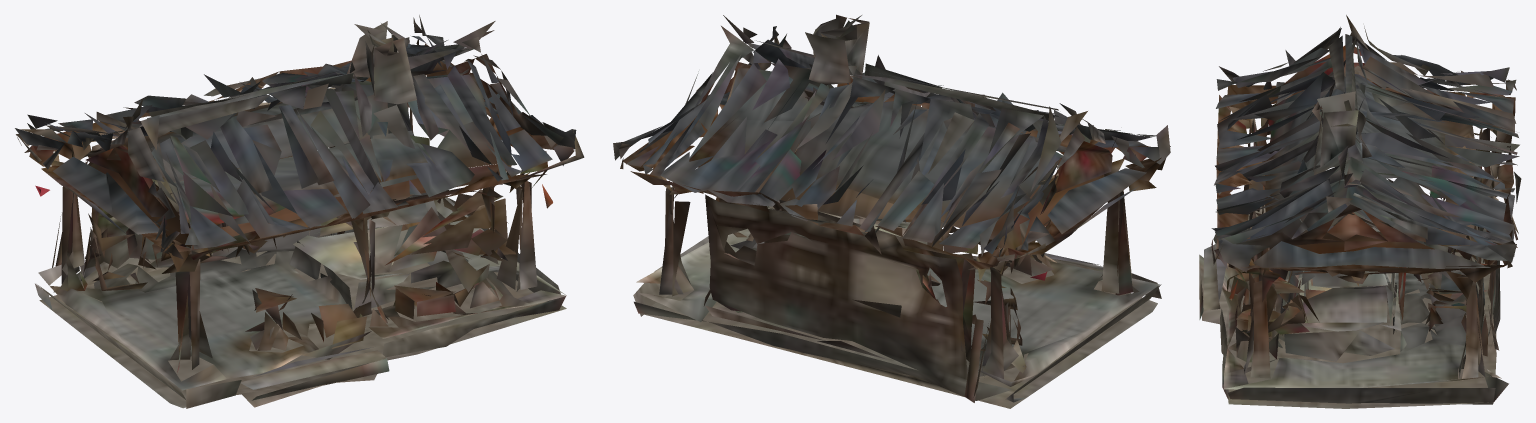
File: ferraria_lod2.glb
3 views of the same model, side by side, from view 1: azimuth 30°, elevation 25°; view 2: azimuth 150°, elevation 25°; view 3: azimuth 270°, elevation 25° (orthographic). The views are drawn at different scales.
Visible parts, largest first — view 1: ferraria; view 2: ferraria; view 3: ferraria.
Boxes of the visible parts, x1,y1,x2,y2 form: ferraria: [15, 15, 584, 408]; ferraria: [613, 14, 1170, 408]; ferraria: [1199, 15, 1521, 408].
Bounding box in the file's own units: 8.11 × 5.15 × 5.84.
1 material, 1 textured.
